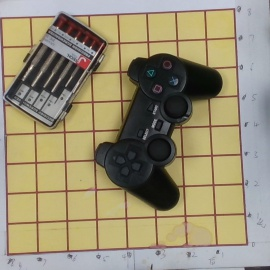remote: (96, 53, 222, 209)
